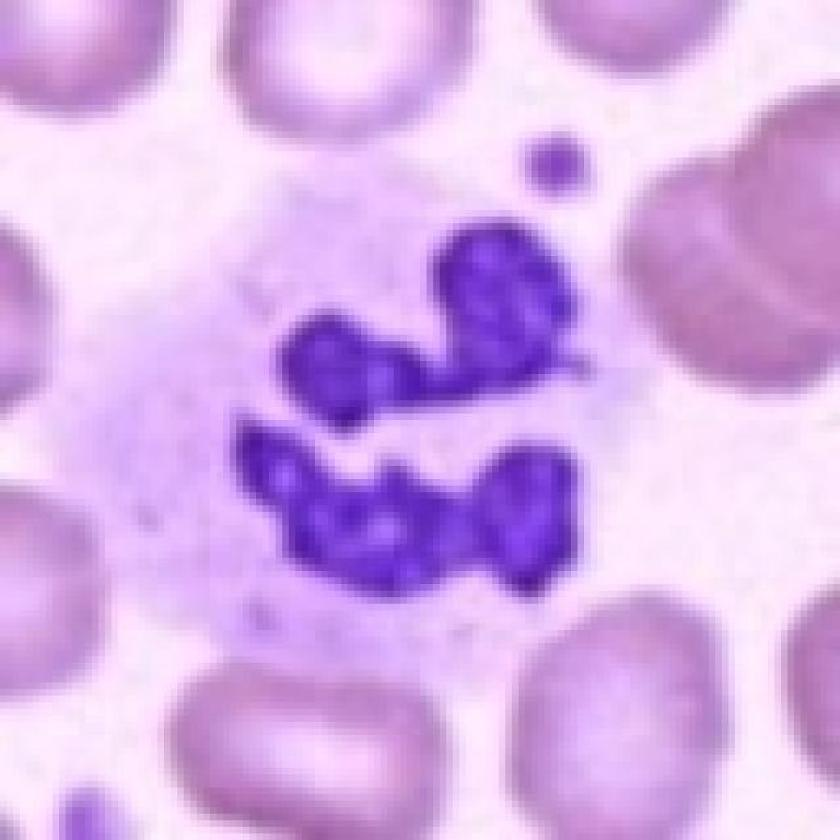neutrophil: (103, 144, 681, 720)
